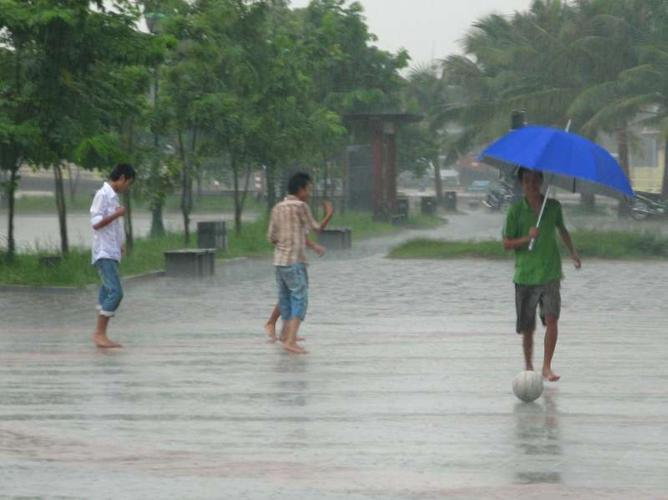person: (502, 168, 584, 384)
